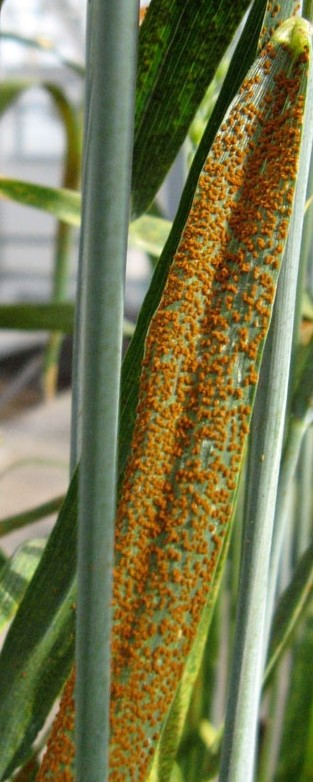Leaf Rust: (108, 79, 313, 651)
